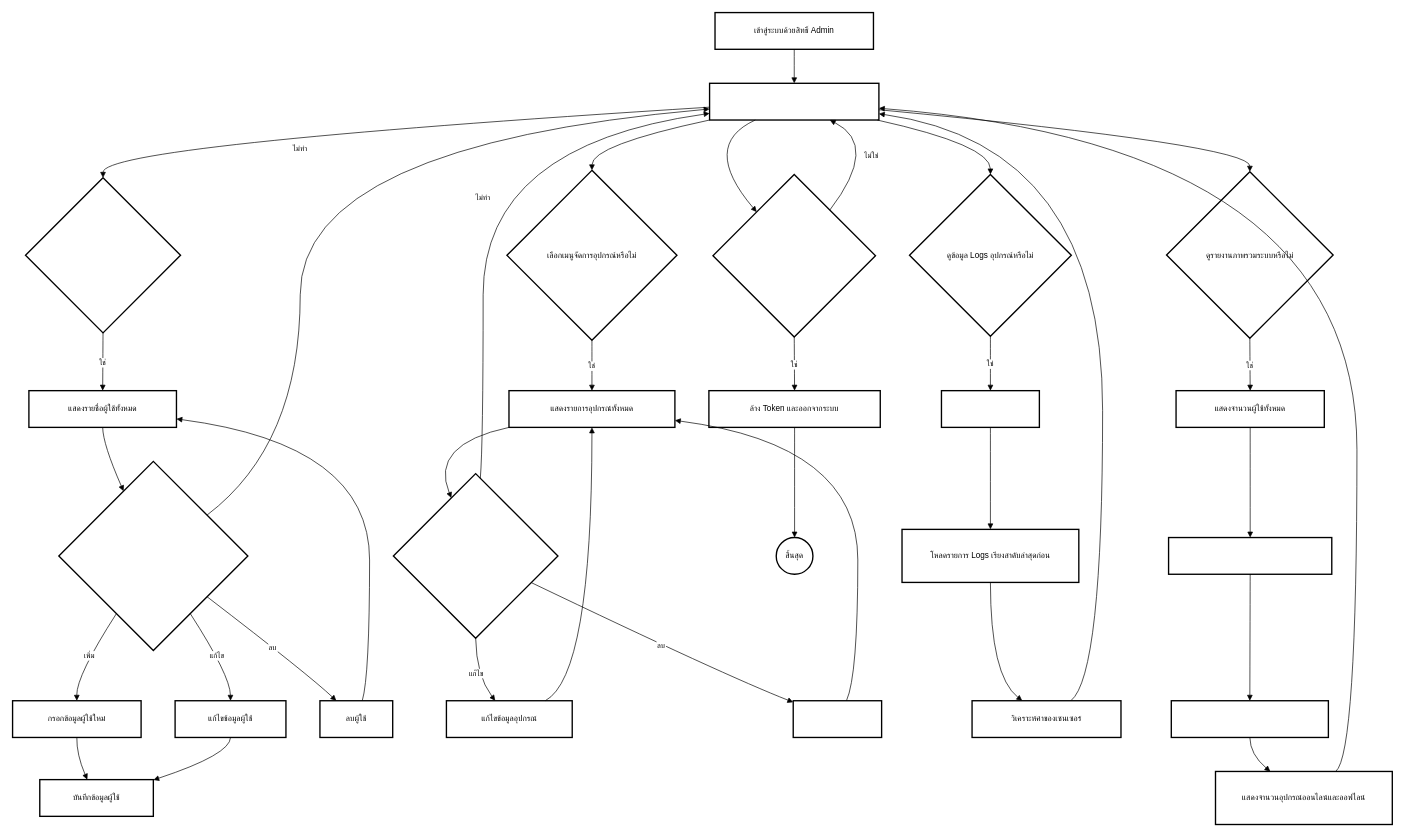
This 1404x836 diagram has some shape labels left out. The shapes that lost their labels are listed below. From the top down, each one's centre as x and y in pixels, then its label:
(794,101): เข้าสู่หน้า Dashboard Admin
(102,255): เลือกเมนูจัดการผู้ใช้หรือไม่
(794,255): ต้องการออกจากระบบหรือไม่
(990,409): เลือกอุปกรณ์
(153,555): เพิ่ม แก้ไข หรือ ลบ ผู้ใช้หรือไม่
(475,556): แก้ไข หรือลบ อุปกรณ์หรือไม่
(1250,556): แสดงจำนวนอุปกรณ์ทั้งหมด
(837,719): ลบอุปกรณ์
(1249,719): แสดงจำนวน Logs ทั้งหมด
